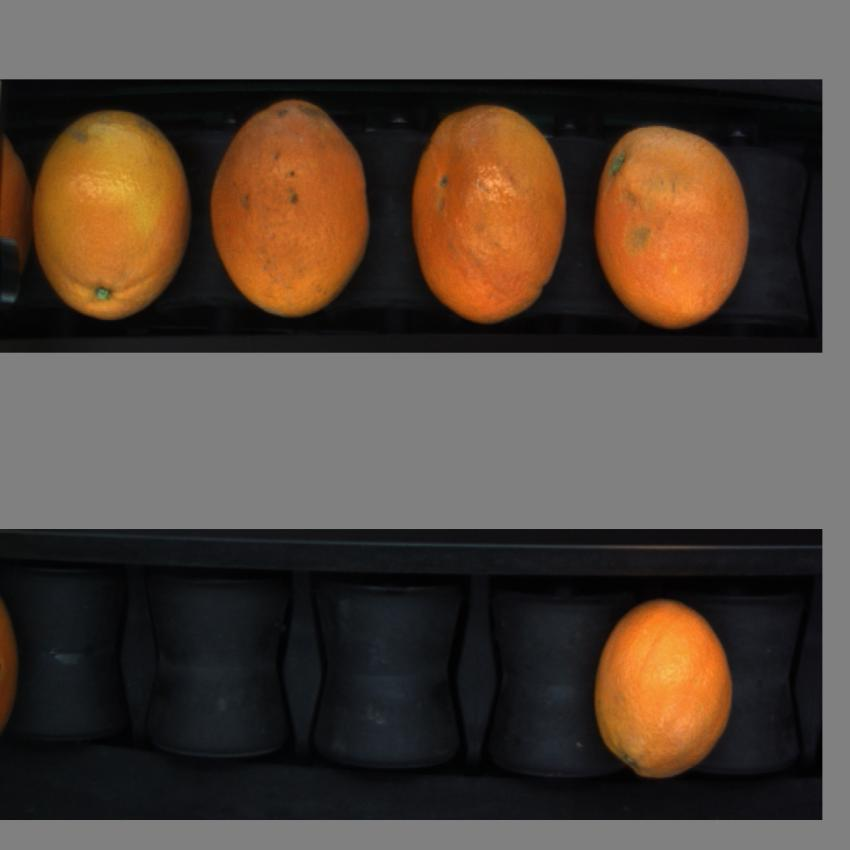Buen estado: (30, 100, 193, 326), (591, 115, 760, 326), (588, 588, 748, 794)
Mal estado: (204, 93, 380, 328), (406, 94, 572, 336)
